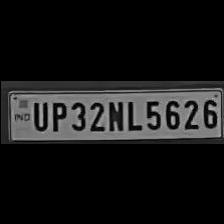2: (86, 97, 104, 131), (181, 95, 199, 129)
3: (66, 97, 86, 130)
5: (141, 95, 161, 129)
6: (198, 96, 218, 128), (162, 96, 180, 130)
L: (123, 96, 141, 130)
N: (105, 96, 124, 132)
P: (47, 98, 66, 130)
U: (28, 97, 46, 130)
